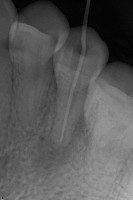Dental Caries: (11, 1, 68, 134)
Furcation Involvement: (32, 117, 85, 179)
